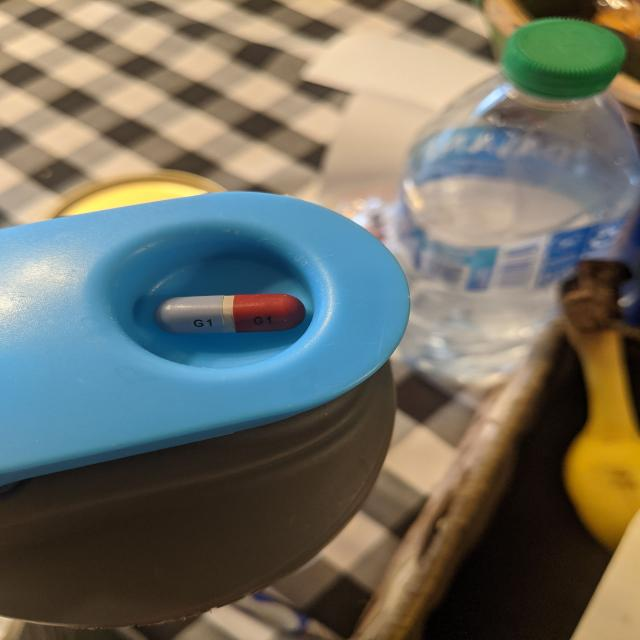non-organic waste: (152, 291, 308, 335)
